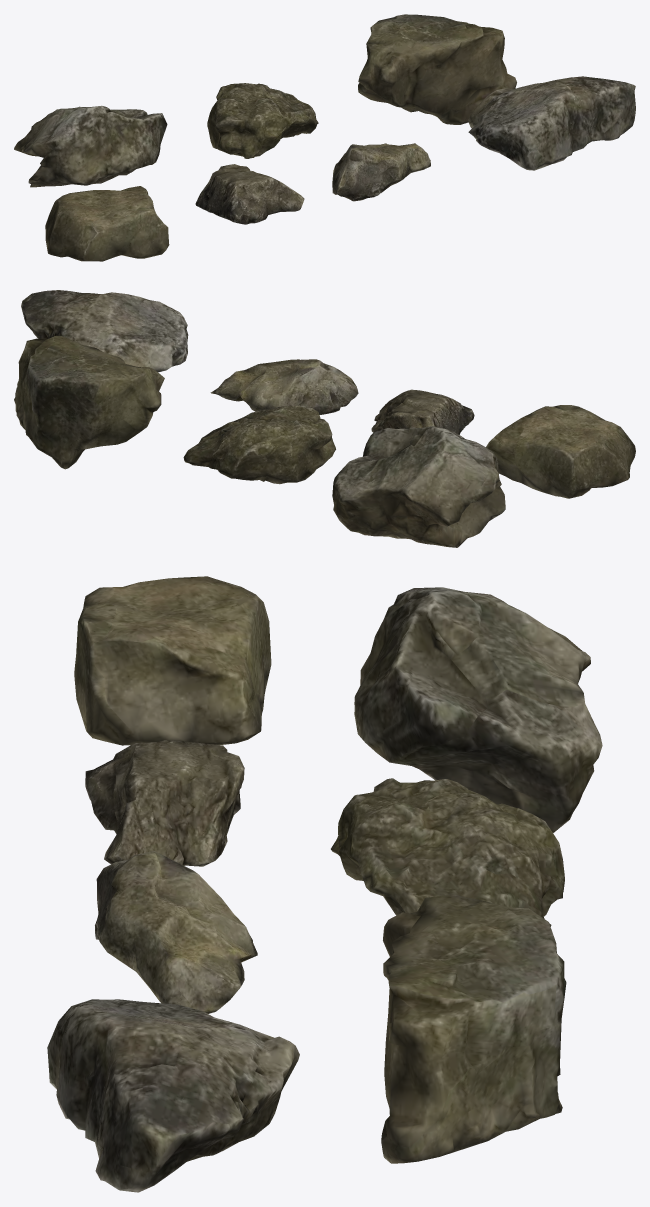
File: rock_moss_set_02.glb
The picture shows the model from 3 angles, top to bottom: view 1: azimuth 30°, elevation 25°; view 2: azimuth 150°, elevation 25°; view 3: azimuth 270°, elevation 25°; orthographic projection. The views are drawn at different scales.
Parts seen in each view (by area): view 1: rock_moss_set_02_rock08; view 2: rock_moss_set_02_rock08; view 3: rock_moss_set_02_rock08.
Part boxes in pixels (bbox=[...]): rock_moss_set_02_rock08: bbox=[14, 14, 635, 261]; rock_moss_set_02_rock08: bbox=[14, 290, 635, 547]; rock_moss_set_02_rock08: bbox=[47, 576, 602, 1192].
Size of the model in its own units: 10.28 by 1.7 by 4.24.
1 material, 1 textured.
